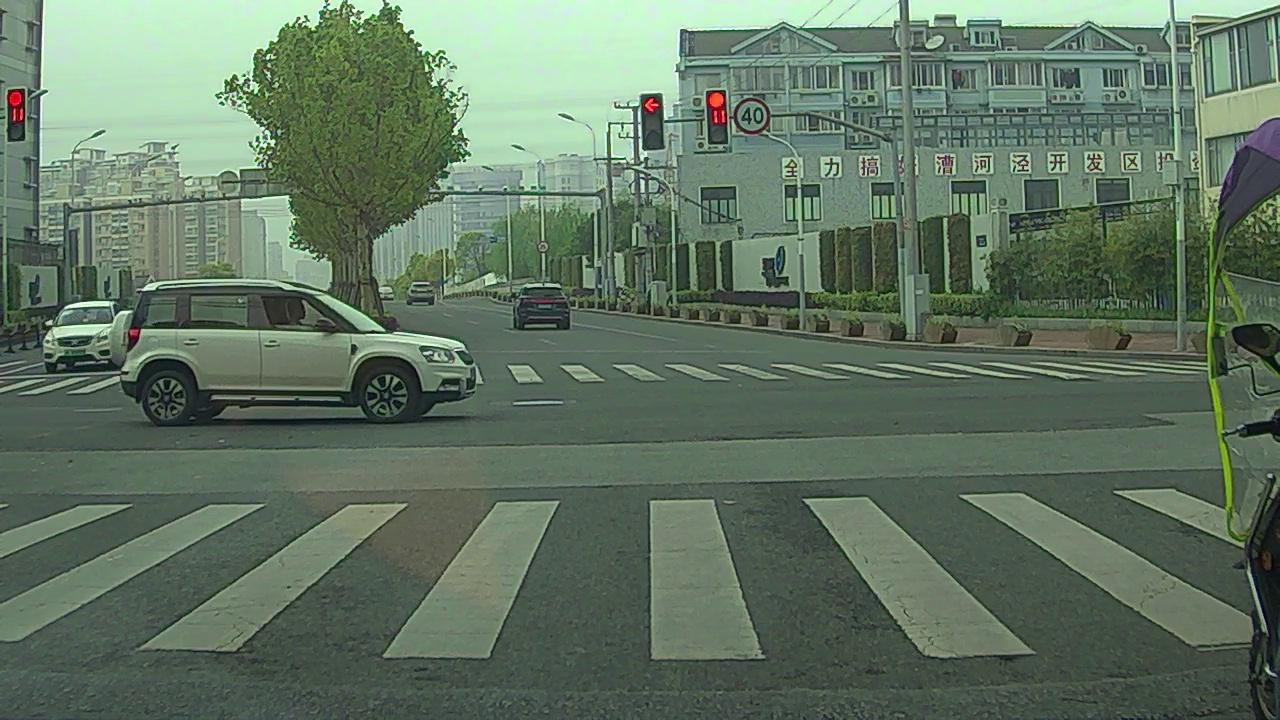traffic_light: (706, 91, 729, 143), (643, 94, 663, 150), (7, 90, 25, 142)
